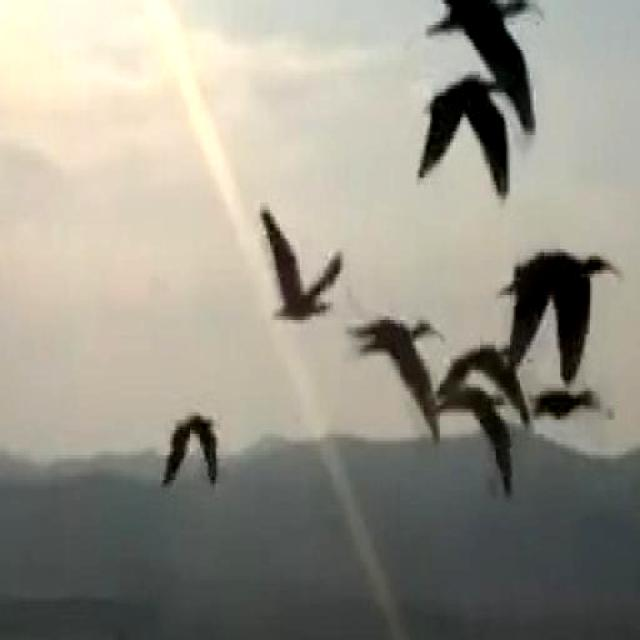airplane: (435, 0, 574, 140), (496, 250, 636, 374), (355, 296, 456, 454), (255, 196, 346, 339), (425, 384, 526, 510), (415, 69, 512, 199), (160, 406, 230, 500)
